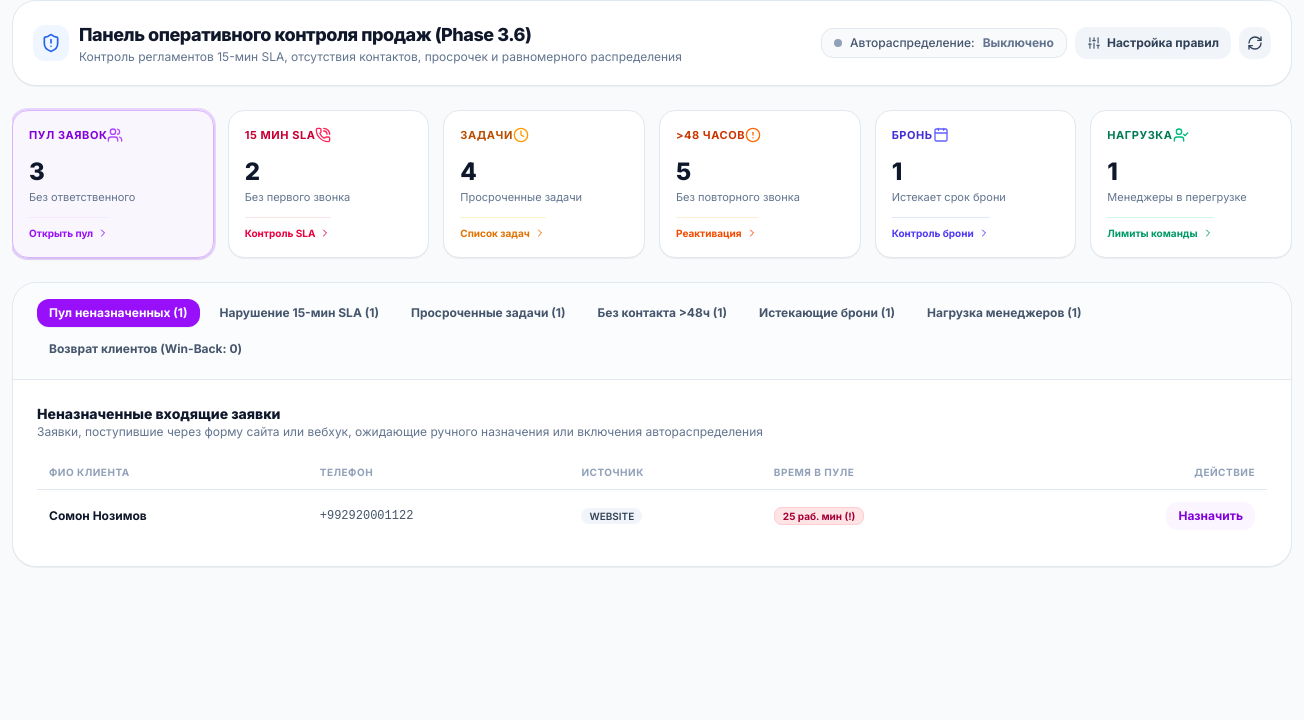
TOZON CRM — SalesControlPanel (Phase 3.6 Frontend Component) › clicking indicator cards switches drill-down dataset views
Expected: the text "Сомон Нозимов" is shown, [37, 490, 308, 542]
// Click on 15 min SLA tab
Click the button "Нарушение 15-мин SLA (1)" at x=299, y=313, box [208, 299, 391, 327]
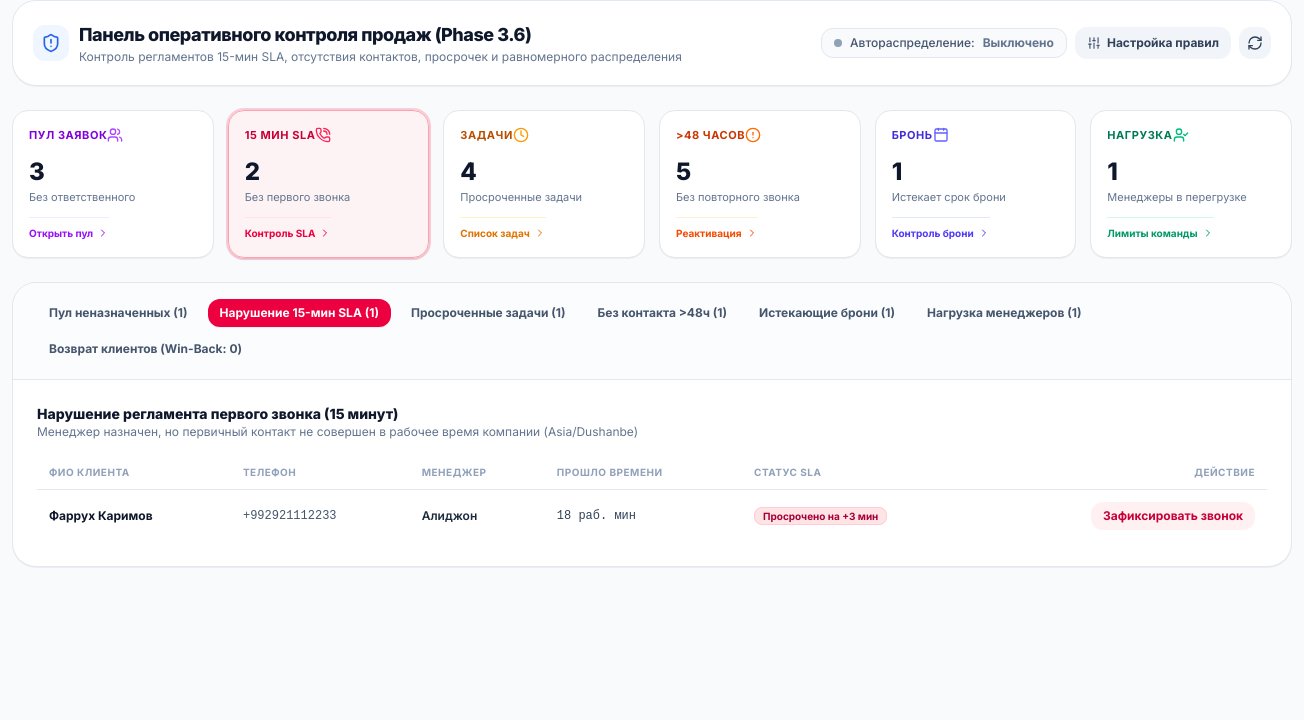
Result: the text "Фаррух Каримов" is shown at [37, 490, 231, 542]
Result: the text "Просрочено на +3 мин" is shown at [754, 507, 887, 525]
